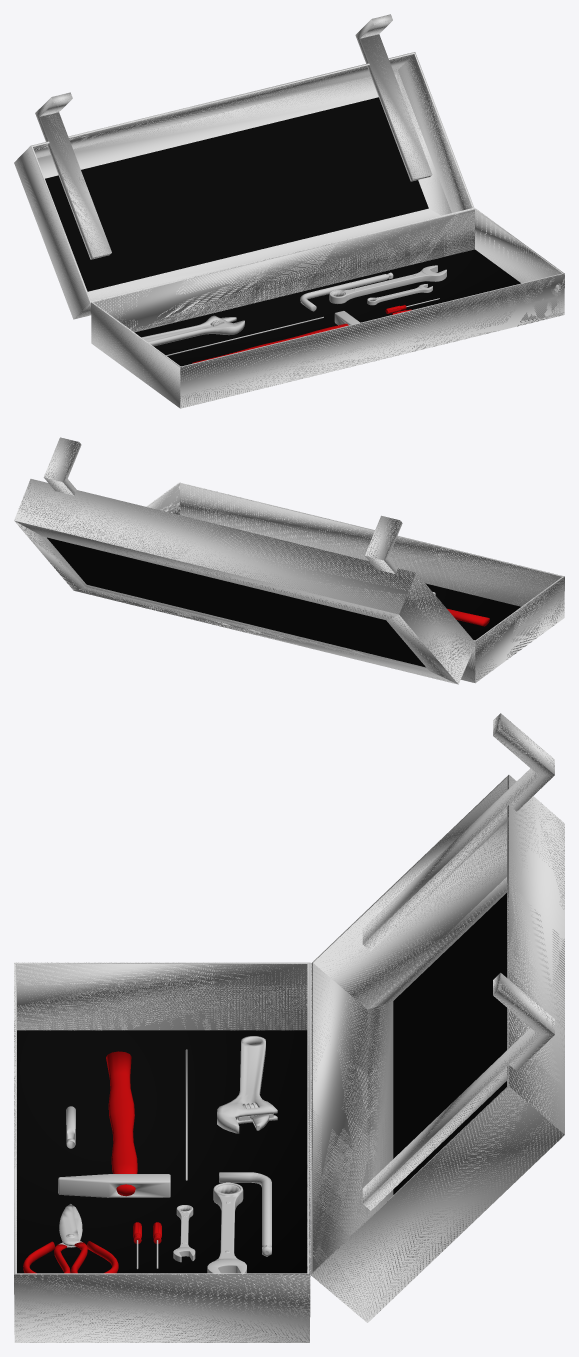
3 renders of one model, top to bottom at view 1: azimuth 30°, elevation 25°; view 2: azimuth 150°, elevation 25°; view 3: azimuth 270°, elevation 25°, orthographic. The views are drawn at different scales.
Visible parts, largest first — view 1: 箱子, 五金工具; view 2: 箱子, 五金工具; view 3: 箱子, 五金工具.
Boxes of the visible parts, x1,y1,x2,y2 form: 箱子: [14, 14, 564, 408]; 五金工具: [141, 265, 446, 363]; 箱子: [14, 437, 564, 684]; 五金工具: [433, 592, 489, 640]; 箱子: [14, 713, 564, 1342]; 五金工具: [23, 1036, 277, 1273].
Size of the model in its own units: 4.58 by 2.27 by 3.41.
